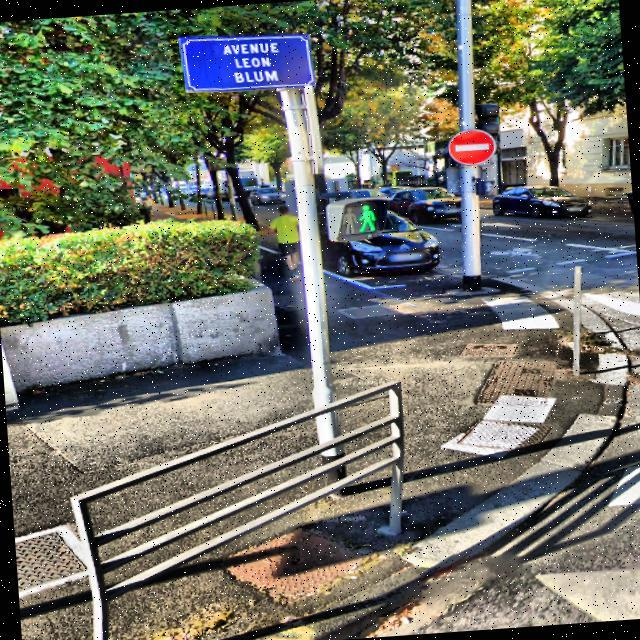green_light: (352, 200, 379, 233)
